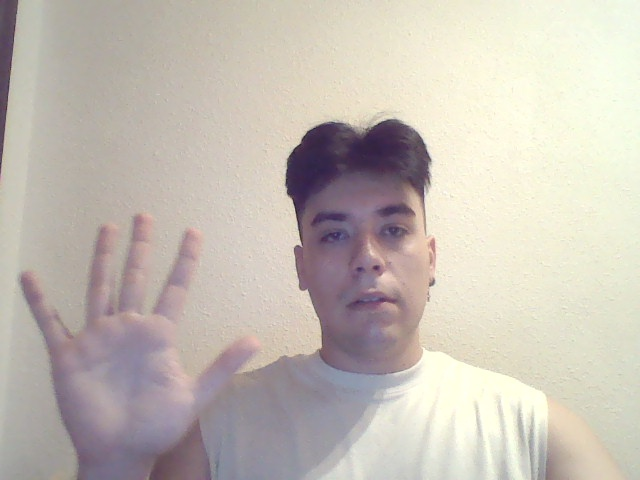Hola: (17, 205, 260, 448)
